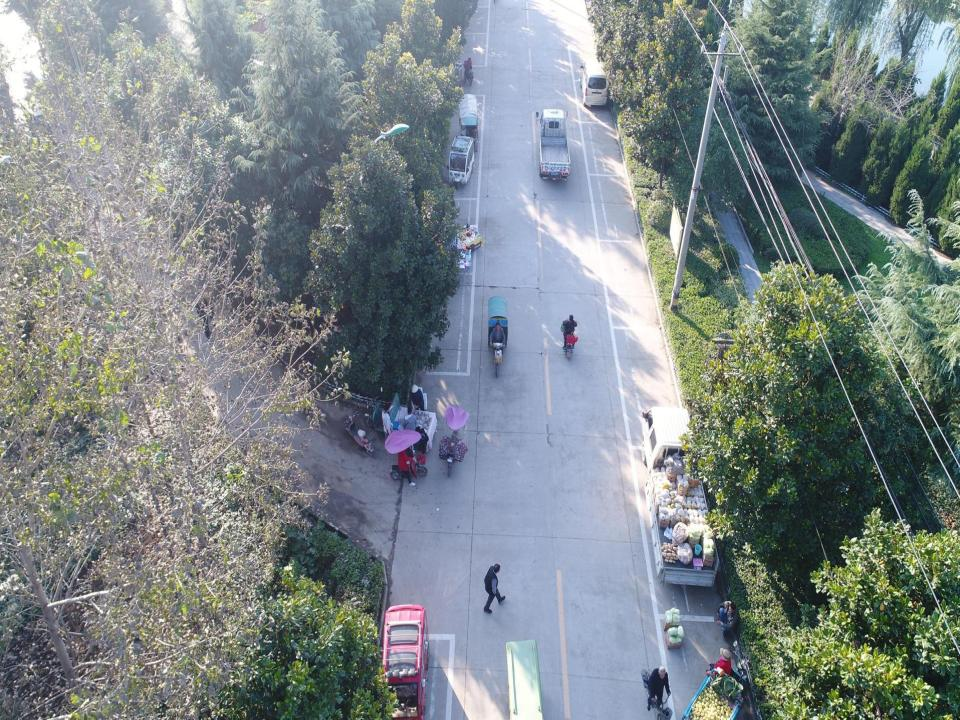truck: (640, 401, 723, 586), (535, 106, 572, 185)
van: (579, 56, 610, 108)
